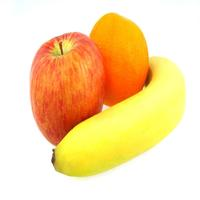apple: (33, 37, 108, 144)
banane: (59, 70, 193, 177)
orange: (90, 12, 151, 104)
